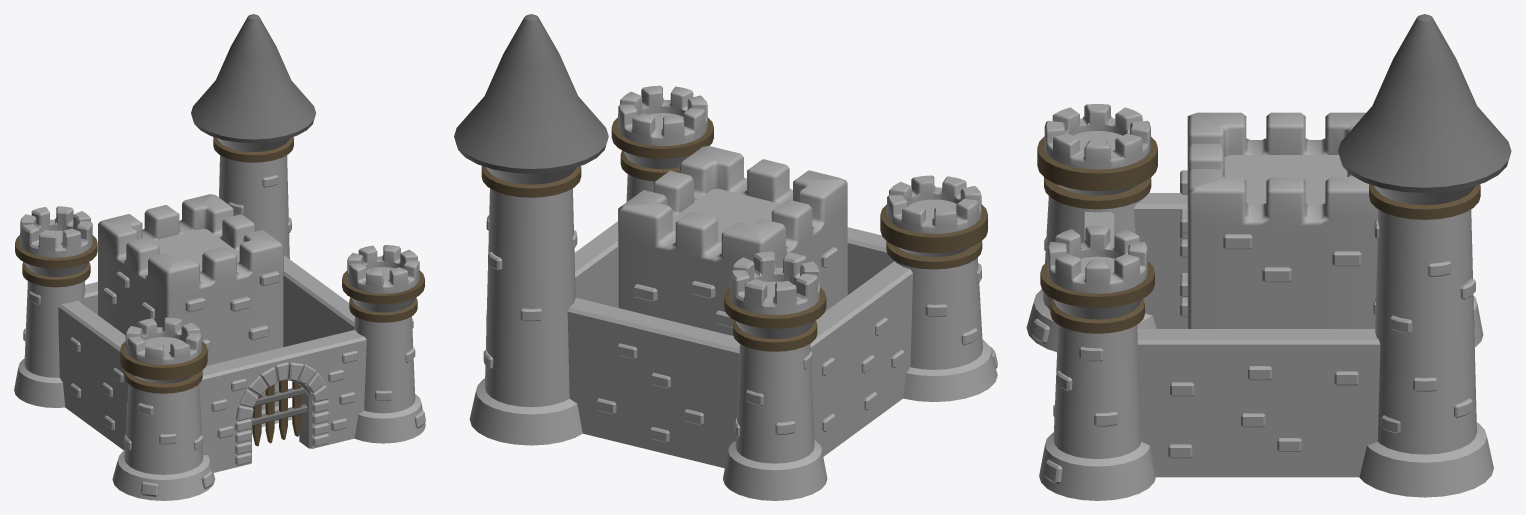
The model's file is Castle.fbx.
3 views of the same model, side by side, from view 1: azimuth 30°, elevation 25°; view 2: azimuth 150°, elevation 25°; view 3: azimuth 270°, elevation 25° (orthographic). The views are drawn at different scales.
Parts seen in each view (by area): view 1: Castle; view 2: Castle; view 3: Castle.
Part boxes in pixels (bbox=[...]): Castle: bbox=[14, 14, 425, 500]; Castle: bbox=[454, 14, 997, 500]; Castle: bbox=[1026, 14, 1511, 500].
Size of the model in its own units: 14.68 by 15.02 by 14.53.
